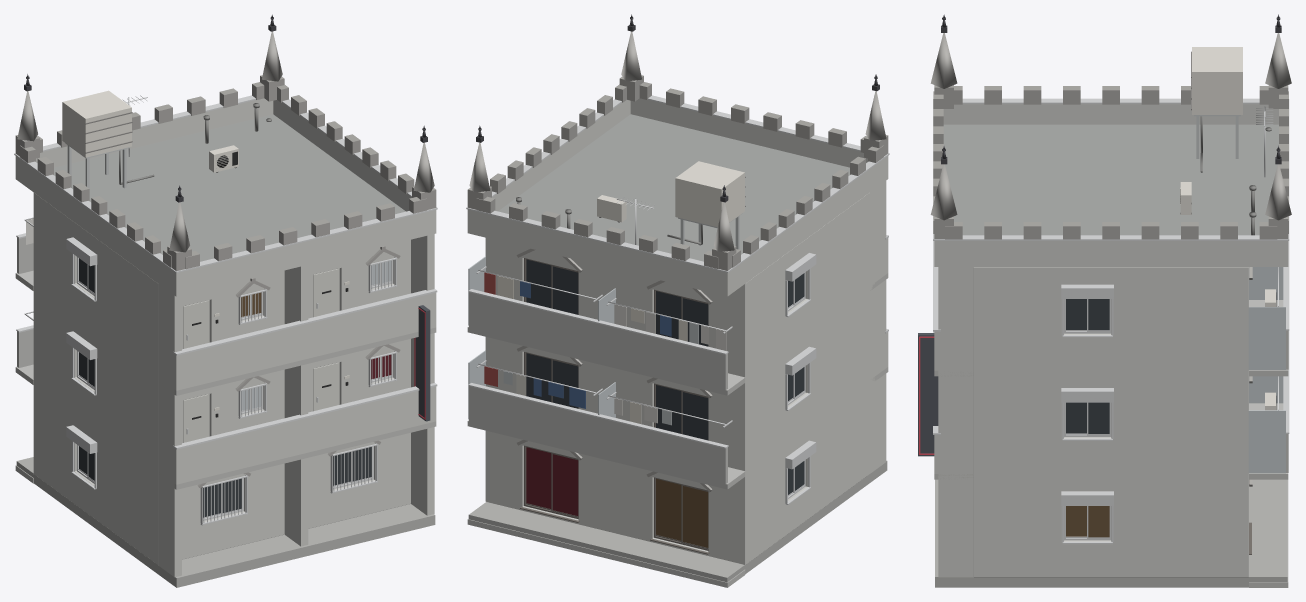
The model's file is blk_outerm1_0_5.glb.
The picture shows the model from 3 angles, left to right: view 1: azimuth 30°, elevation 25°; view 2: azimuth 150°, elevation 25°; view 3: azimuth 270°, elevation 25°; orthographic projection. The views are drawn at different scales.
Visible parts, largest first — view 1: blk_outerm1_0_5; view 2: blk_outerm1_0_5; view 3: blk_outerm1_0_5.
Part boxes in pixels (bbox=[...]): blk_outerm1_0_5: bbox=[14, 14, 437, 587]; blk_outerm1_0_5: bbox=[466, 14, 889, 587]; blk_outerm1_0_5: bbox=[918, 14, 1291, 587].
Bounding box in the file's own units: 8.86 × 12.3 × 9.5.
